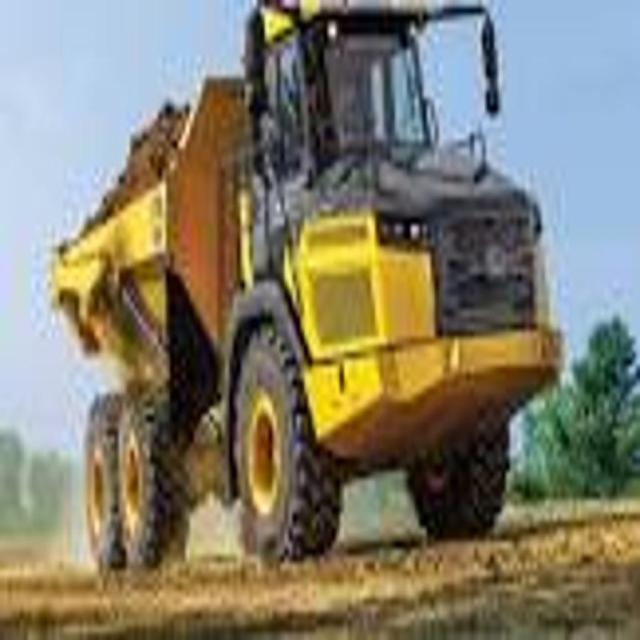dump_truck: (49, 0, 564, 579)
